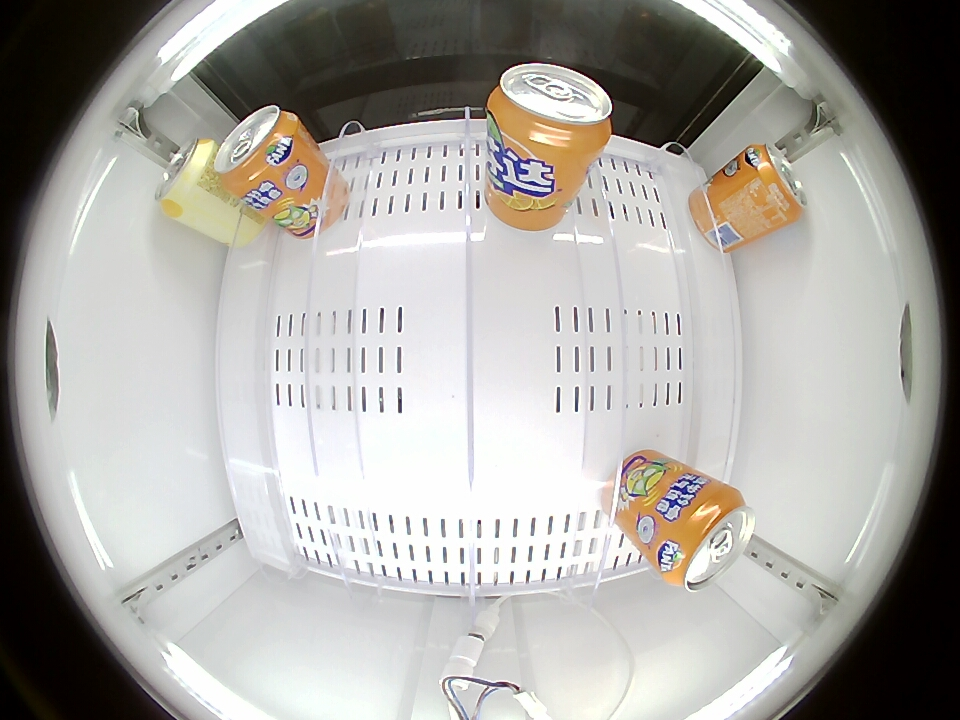fenda: (488, 63, 612, 160), (655, 484, 756, 593), (214, 105, 303, 192), (741, 144, 806, 229)
mangguoxiaolao: (155, 135, 215, 215)
